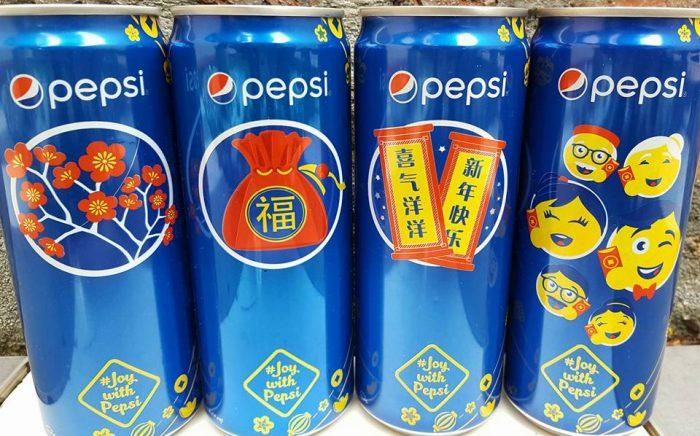metal: (0, 7, 700, 435)
